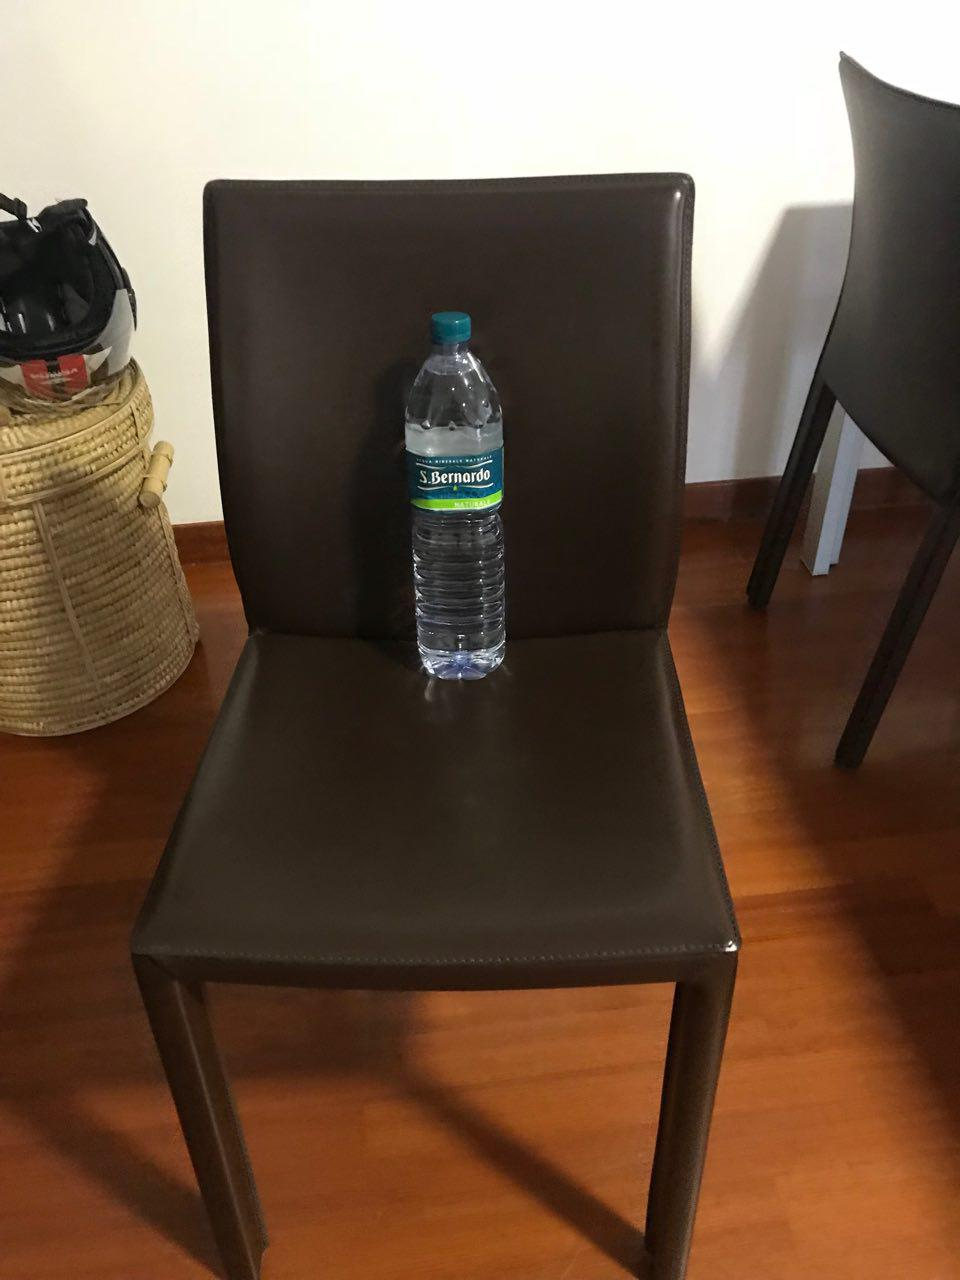san_bernardo: (403, 311, 507, 681)
